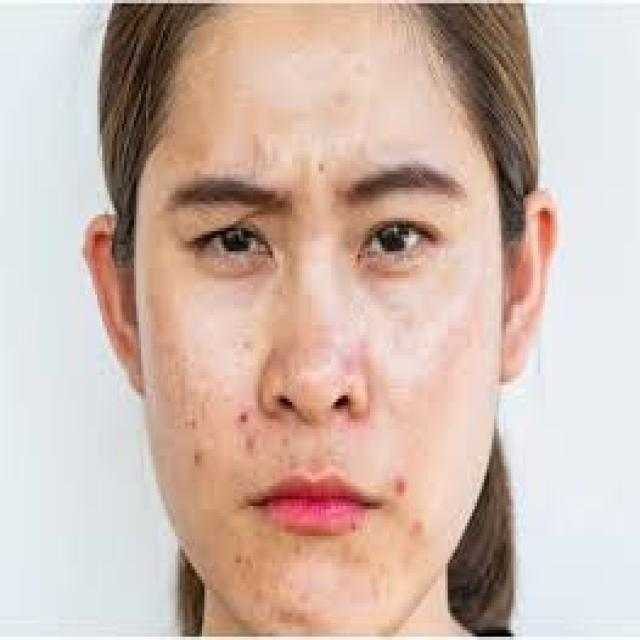Acne: (381, 468, 437, 548), (180, 419, 253, 478)
